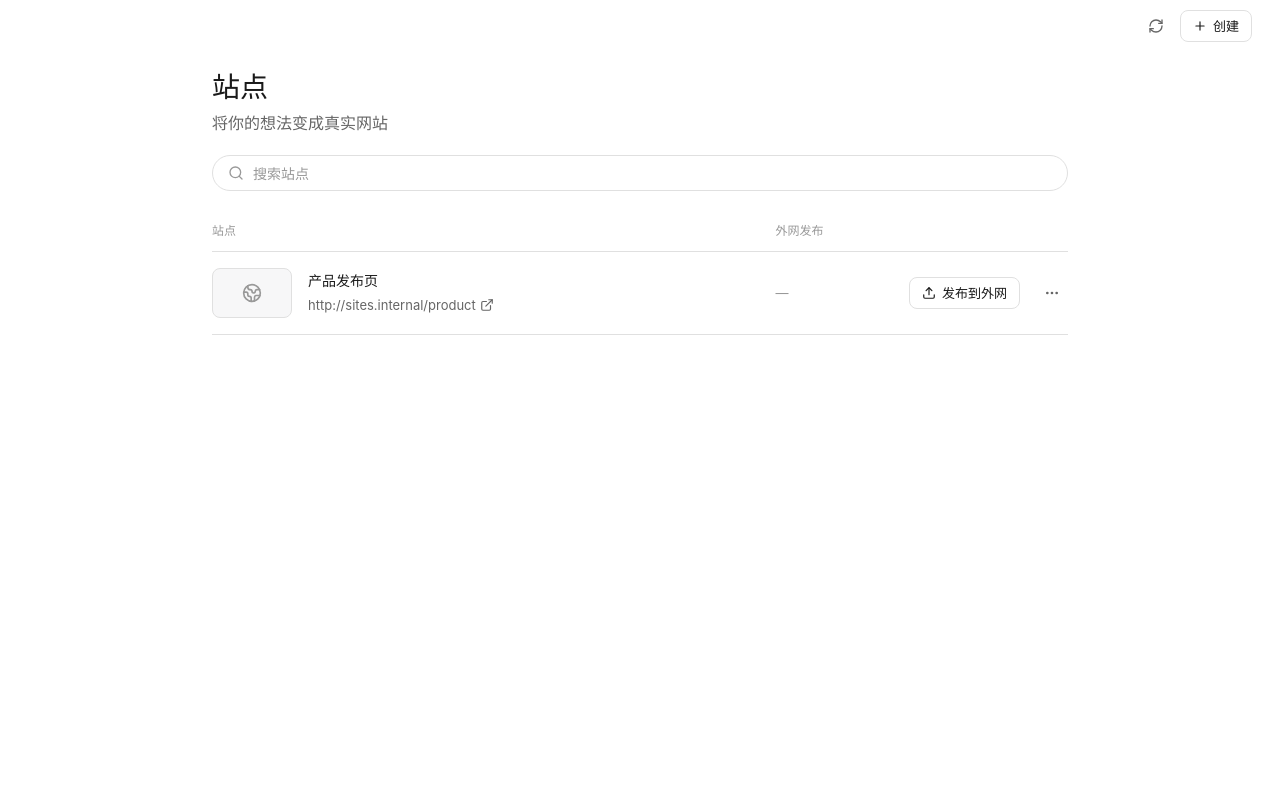
Scenario: SitesWorkspace › requires confirmation and explains that local files are preserved
Expected: the heading "产品发布页" is shown, [308,272,378,289]
Click the button with test id "site-more-site-1" at (1052, 293), box [1036,277,1068,309]
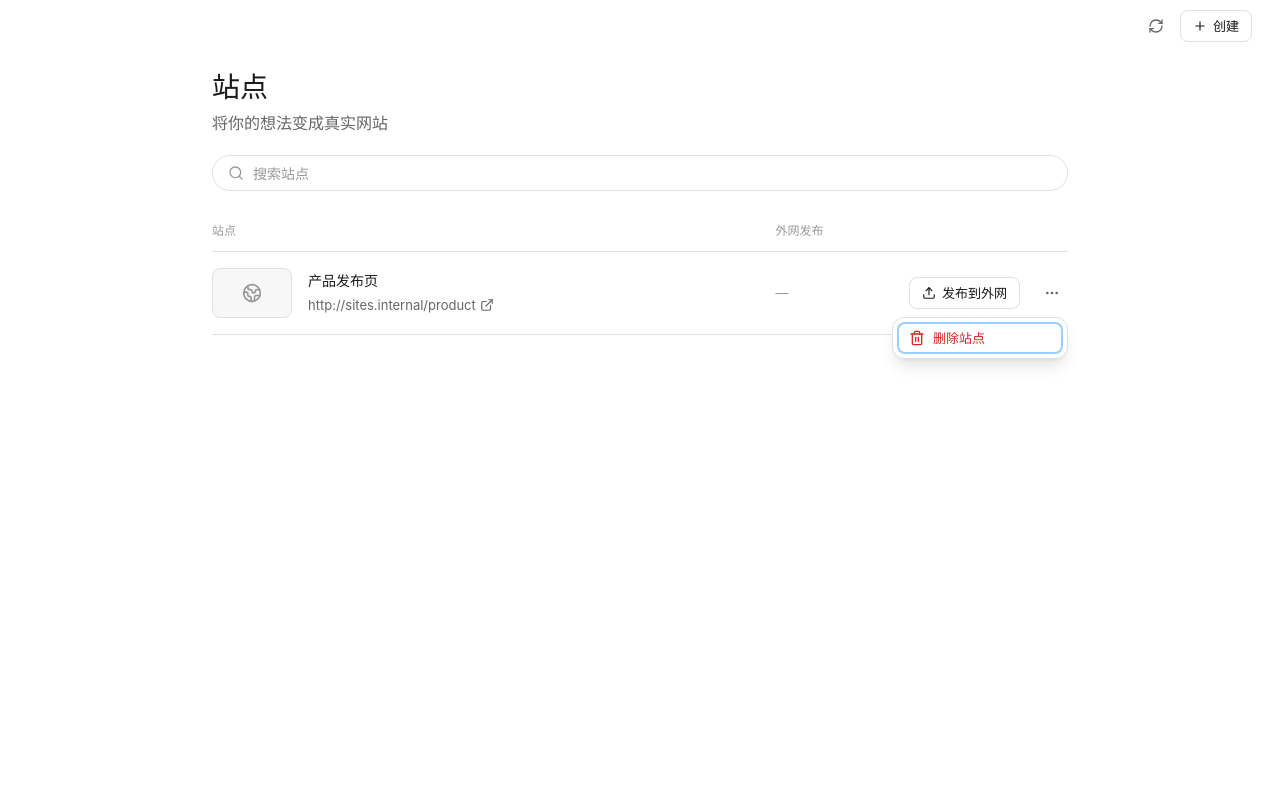
Click the menu item with test id "site-delete-menu-item-site-1" at (980, 338), box [897,322,1063,354]
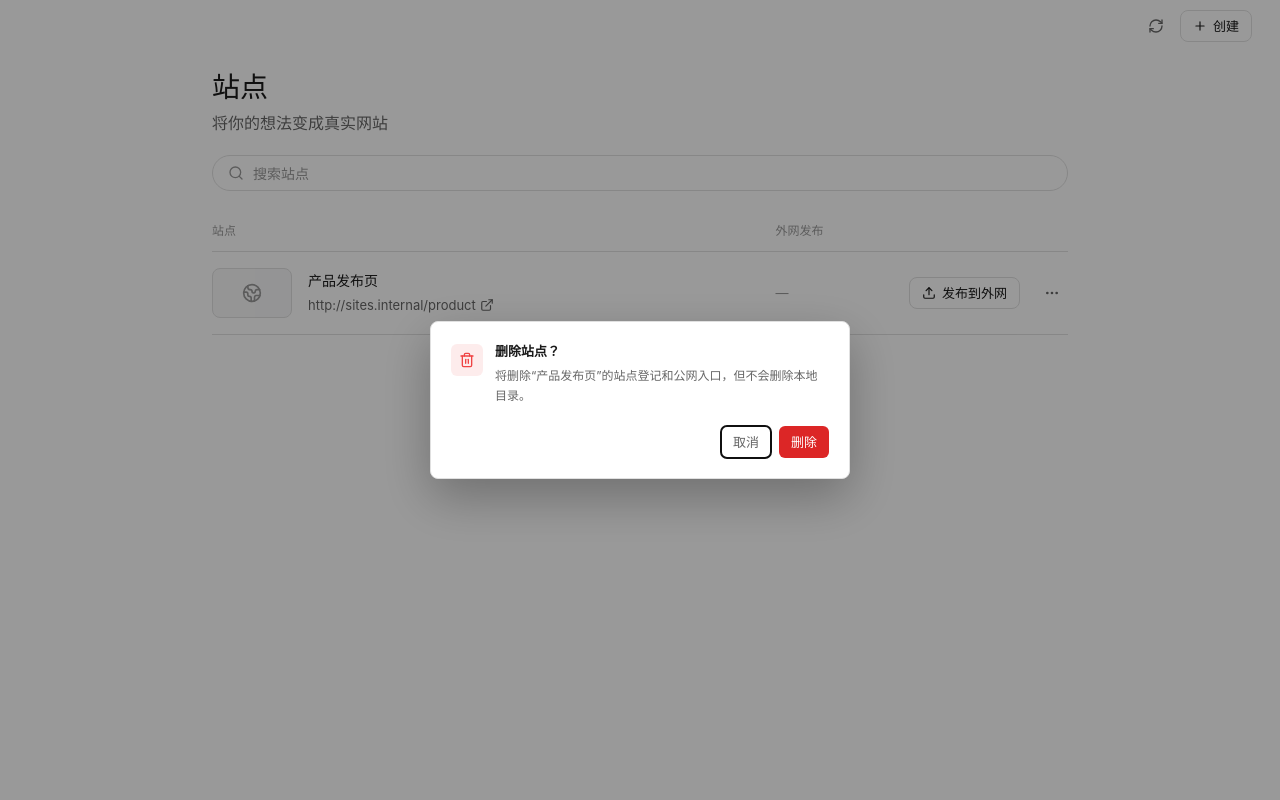
Now the dialog with test id "site-delete-dialog" shows "公网入口", box [495,368,818,403]
Now the dialog with test id "site-delete-dialog" shows "不会删除本地目录", box [495,368,818,403]
Click the button with test id "site-delete-cancel-button" at (746, 442), box [721,426,771,458]
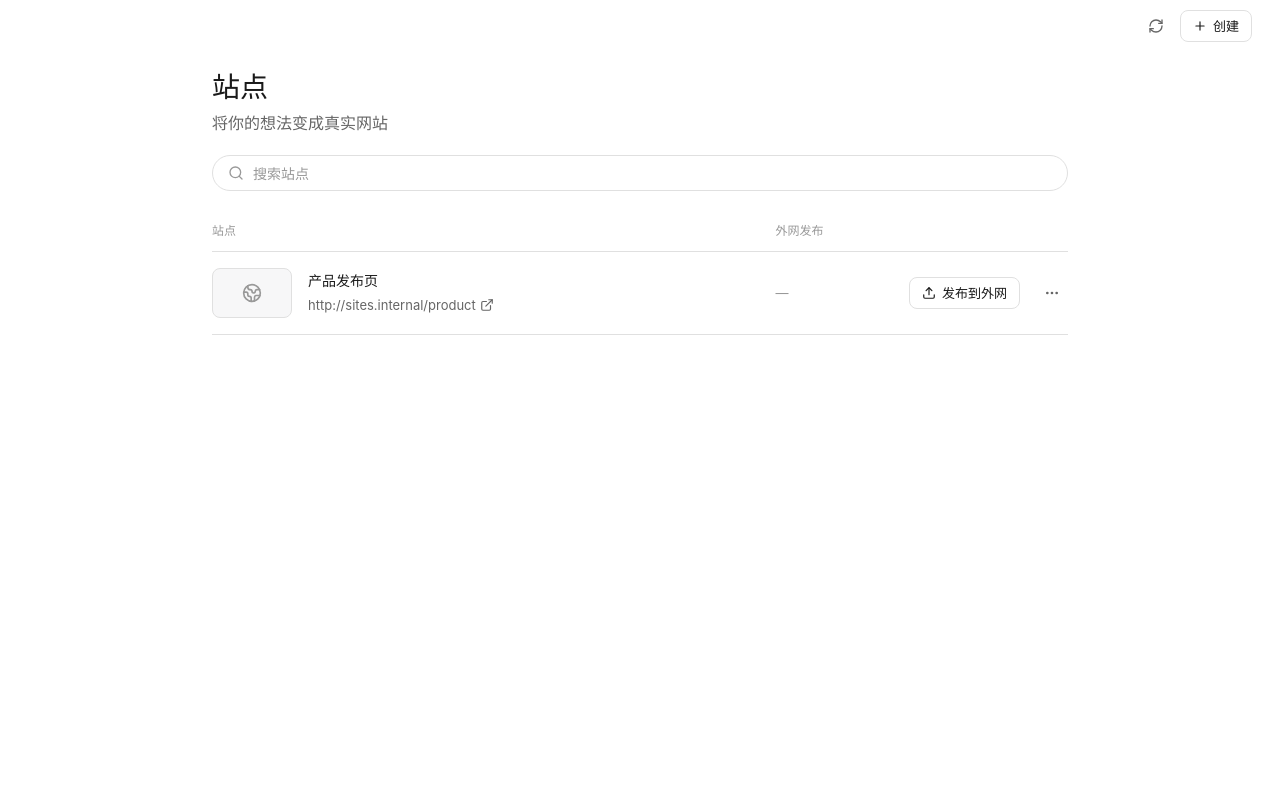
Now the dialog with test id "site-delete-dialog" is gone
